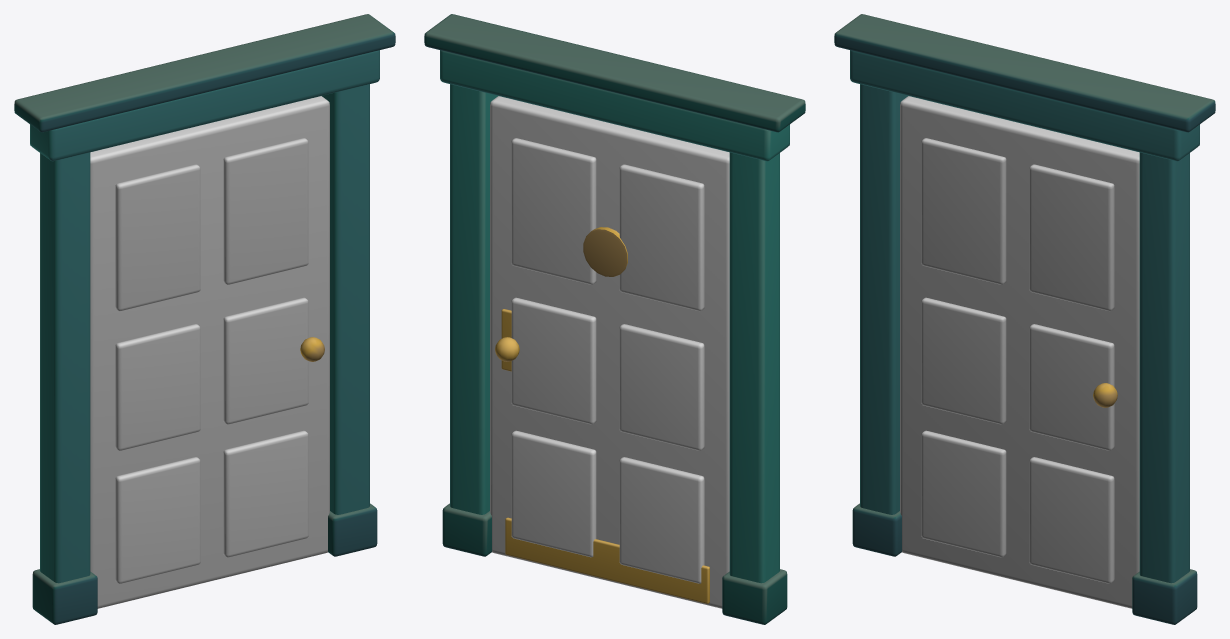
Rendered from RoomDoor.fbx.
3 renders of one model, left to right at view 1: azimuth 30°, elevation 25°; view 2: azimuth 150°, elevation 25°; view 3: azimuth 330°, elevation 25°, orthographic.
Visible parts, largest first — view 1: SM_Prop_Door_Leaf, SM_Prop_Door_Frame; view 2: SM_Prop_Door_Leaf, SM_Prop_Door_Frame, SM_Prop_Door_Hardware; view 3: SM_Prop_Door_Leaf, SM_Prop_Door_Frame.
Part boxes in pixels (x1,y1,x2,y2): SM_Prop_Door_Leaf: [90, 96, 329, 608]; SM_Prop_Door_Frame: [14, 14, 395, 624]; SM_Prop_Door_Leaf: [490, 96, 729, 608]; SM_Prop_Door_Frame: [424, 14, 805, 624]; SM_Prop_Door_Hardware: [495, 227, 709, 603]; SM_Prop_Door_Leaf: [900, 96, 1139, 608]; SM_Prop_Door_Frame: [834, 14, 1215, 624].
Size of the model in its own units: 5.6 by 7.71 by 1.08.
